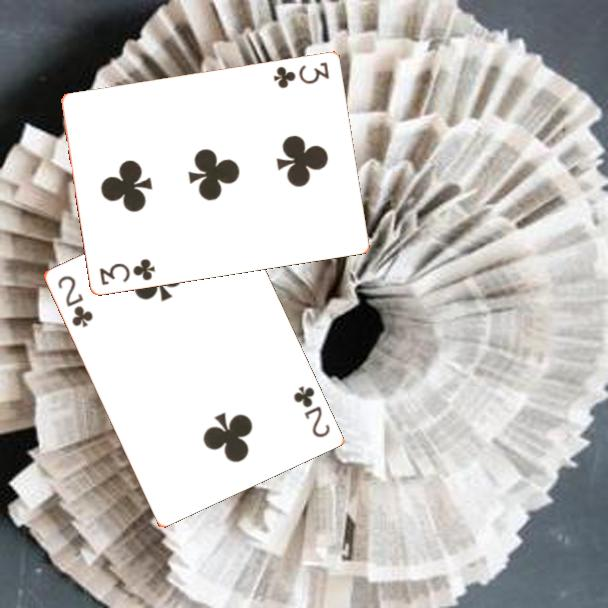c02: (289, 382, 333, 440), (54, 272, 96, 330)
c03: (270, 58, 332, 91), (96, 255, 158, 288)
